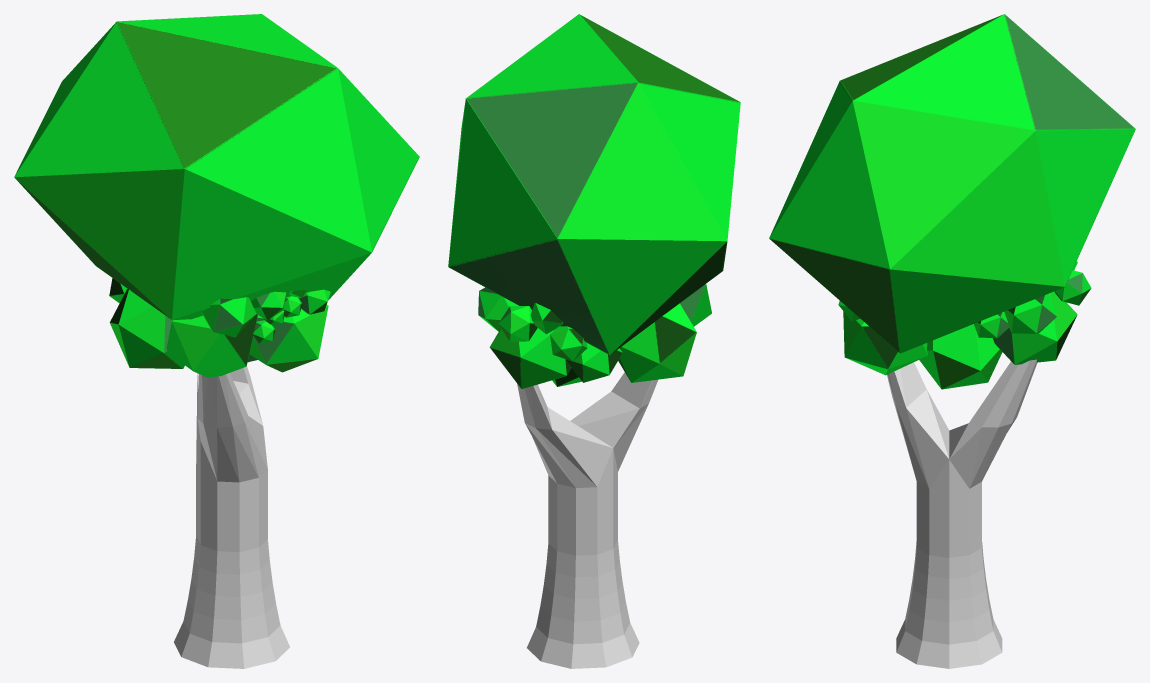
Rendered from Oaktree.FBX.
The picture shows the model from 3 angles, left to right: view 1: azimuth 30°, elevation 25°; view 2: azimuth 150°, elevation 25°; view 3: azimuth 270°, elevation 25°; orthographic projection. The views are drawn at different scales.
Parts seen in each view (by area): view 1: GeoSphere005, OakTree, GeoSphere001, GeoSphere004, GeoSphere002, GeoSphere013, GeoSphere014; view 2: GeoSphere005, OakTree, GeoSphere004, GeoSphere006, GeoSphere007, GeoSphere010, GeoSphere011, GeoSphere008, GeoSphere001, GeoSphere012; view 3: GeoSphere005, OakTree, GeoSphere003, GeoSphere006, GeoSphere002, GeoSphere008, GeoSphere010, GeoSphere009.
Part boxes in pixels (box(x1,y1,x2,y2)): GeoSphere005: box(14, 14, 419, 320); OakTree: box(174, 366, 289, 668); GeoSphere001: box(166, 314, 257, 377); GeoSphere004: box(109, 289, 184, 368); GeoSphere002: box(249, 304, 328, 372); GeoSphere013: box(202, 297, 256, 337); GeoSphere014: box(251, 291, 286, 320); GeoSphere005: box(448, 14, 740, 354); OakTree: box(517, 372, 657, 668); GeoSphere004: box(618, 303, 696, 382); GeoSphere006: box(489, 328, 571, 388); GeoSphere007: box(566, 343, 622, 382); GeoSphere010: box(498, 306, 537, 341); GeoSphere011: box(550, 326, 587, 361); GeoSphere008: box(478, 287, 518, 331); GeoSphere001: box(680, 284, 711, 326); GeoSphere012: box(530, 303, 562, 334); GeoSphere005: box(769, 14, 1135, 353); OakTree: box(887, 359, 1036, 668); GeoSphere003: box(919, 324, 1002, 389); GeoSphere006: box(993, 291, 1077, 364); GeoSphere002: box(843, 311, 927, 375); GeoSphere008: box(1004, 293, 1056, 333); GeoSphere010: box(1054, 270, 1091, 305); GeoSphere009: box(974, 312, 1009, 338).
Bounding box in the file's own units: 416 × 728 × 409.
Materials: 1 (1 with a texture image).
